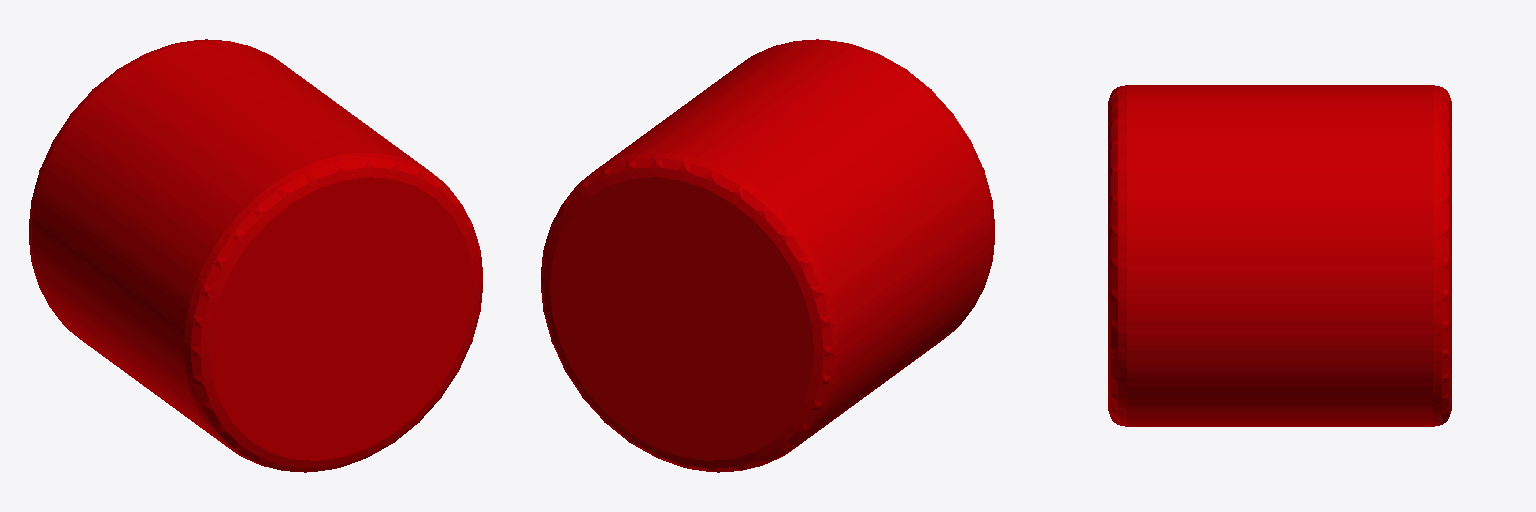
Rendered from WHGEnemy.obj.
3 renders of one model, left to right at view 1: azimuth 30°, elevation 25°; view 2: azimuth 150°, elevation 25°; view 3: azimuth 270°, elevation 25°, orthographic.
Parts seen in each view (by area): view 1: Enemy; view 2: Enemy; view 3: Enemy.
Part boxes in pixels (left/top/right/bottom): Enemy: left=29, top=39, right=482, bottom=472; Enemy: left=541, top=39, right=994, bottom=472; Enemy: left=1108, top=85, right=1451, bottom=426.
Size of the model in its own units: 0.985 by 0.985 by 0.9922.